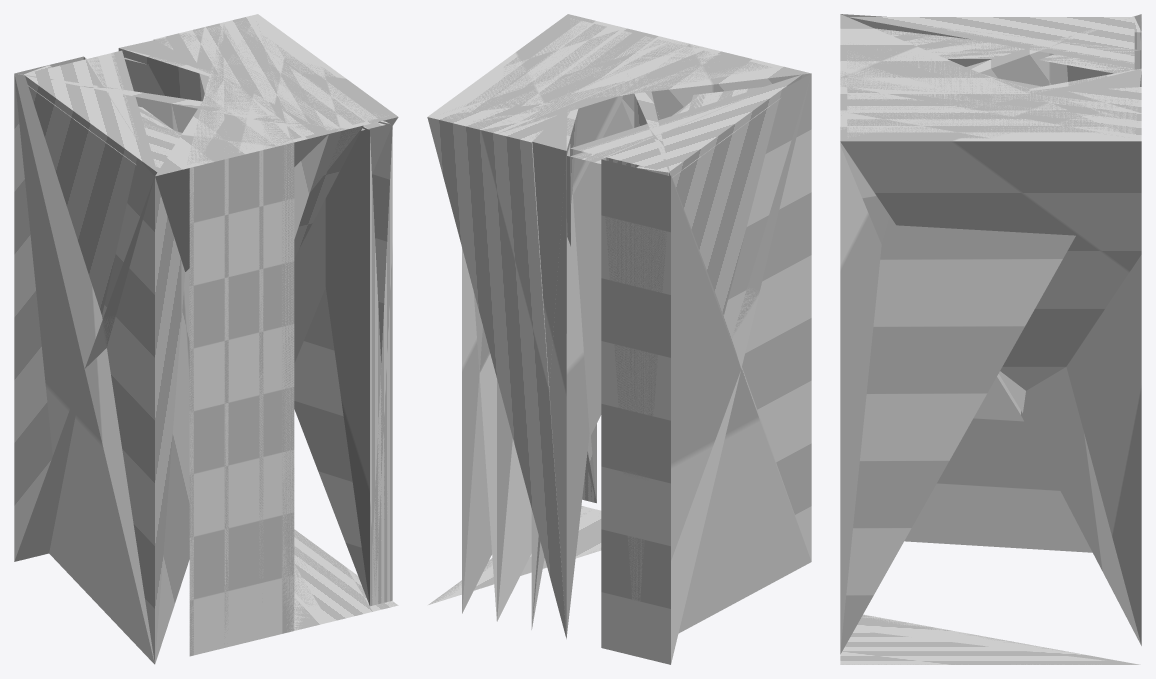
The picture shows the model from 3 angles, left to right: view 1: azimuth 30°, elevation 25°; view 2: azimuth 150°, elevation 25°; view 3: azimuth 270°, elevation 25°; orthographic projection. The views are drawn at different scales.
Visible parts, largest first — view 1: Highrise_1; view 2: Highrise_1; view 3: Highrise_1.
Boxes of the visible parts, x1,y1,x2,y2 form: Highrise_1: (14,14,398,664); Highrise_1: (427,14,811,664); Highrise_1: (840,14,1141,664).
Bounding box in the file's own units: 200 × 383 × 200.
